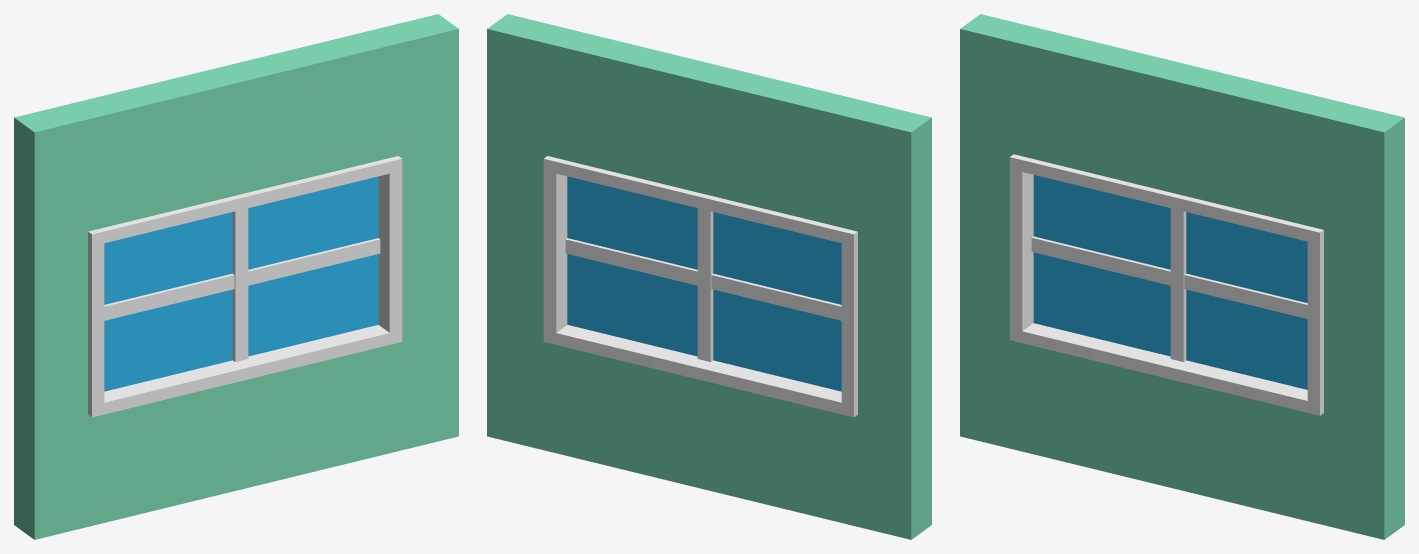
The model's file is Simple_wallB.fbx.
3 renders of one model, left to right at view 1: azimuth 30°, elevation 25°; view 2: azimuth 150°, elevation 25°; view 3: azimuth 330°, elevation 25°, orthographic.
Parts seen in each view (by area): view 1: edit1; view 2: edit1; view 3: edit1.
Part boxes in pixels (x1=…): edit1: x1=14, y1=14, x2=458, y2=539; edit1: x1=487, y1=14, x2=931, y2=539; edit1: x1=960, y1=14, x2=1404, y2=539.
Size of the model in its own units: 109 by 100 by 12.55.
